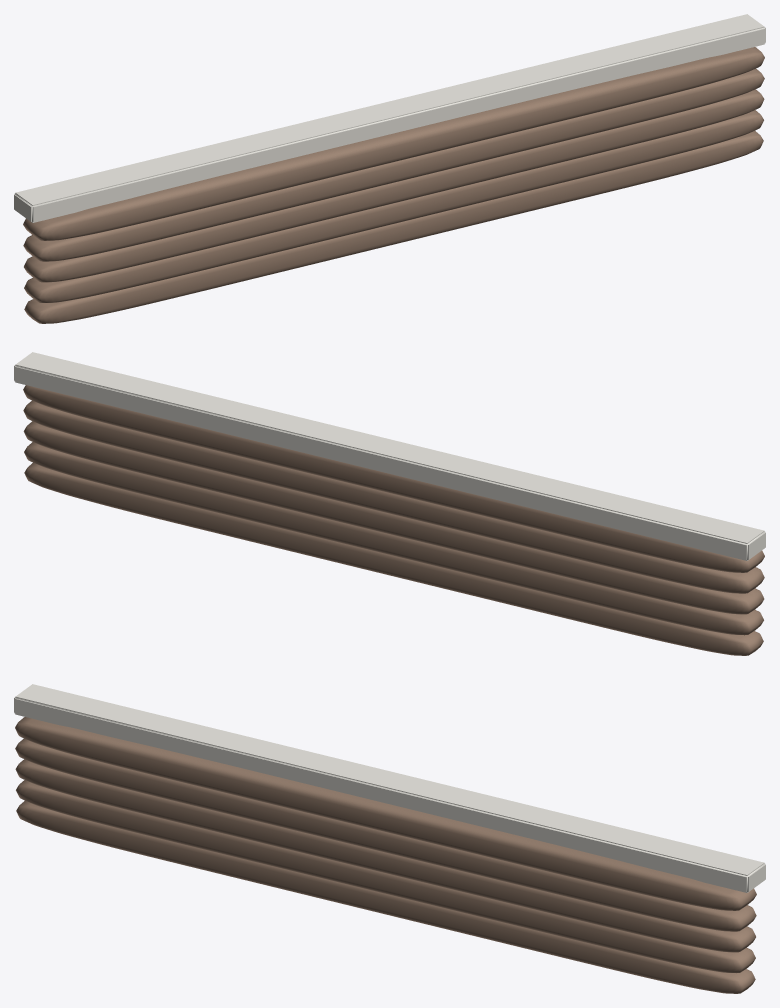
The model's file is modern.roman_blind.gltf.
3 renders of one model, top to bottom at view 1: azimuth 30°, elevation 25°; view 2: azimuth 150°, elevation 25°; view 3: azimuth 330°, elevation 25°, orthographic.
Visible parts, largest first — view 1: modern.roman_blind.headrail; view 2: modern.roman_blind.headrail; view 3: modern.roman_blind.headrail.
Part boxes in pixels (x1,y1,x2,y2): modern.roman_blind.headrail: (14, 14, 765, 323); modern.roman_blind.headrail: (14, 352, 765, 655); modern.roman_blind.headrail: (14, 684, 765, 993).
Size of the model in its own units: 1.5 by 0.2449 by 0.09.
2 materials, 1 textured.
